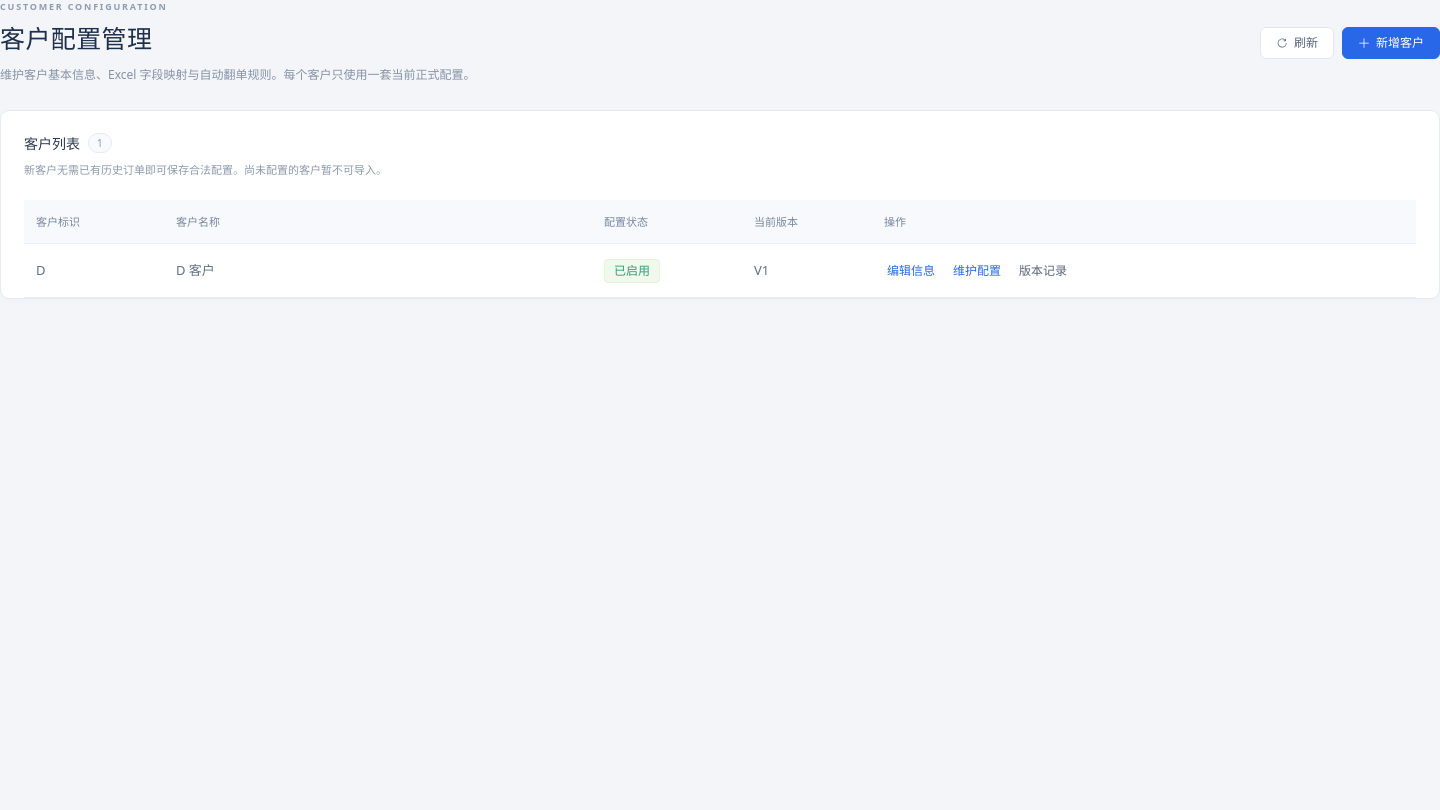
Test case: 上传样例复用已有映射，实际预览展示必填错误且不保存配置
What coordinates should you click on to do the following:
click the button "维护配置"
I would click on:
 (977, 271)
Its box is [950,262,1004,280].
(page scrolled)
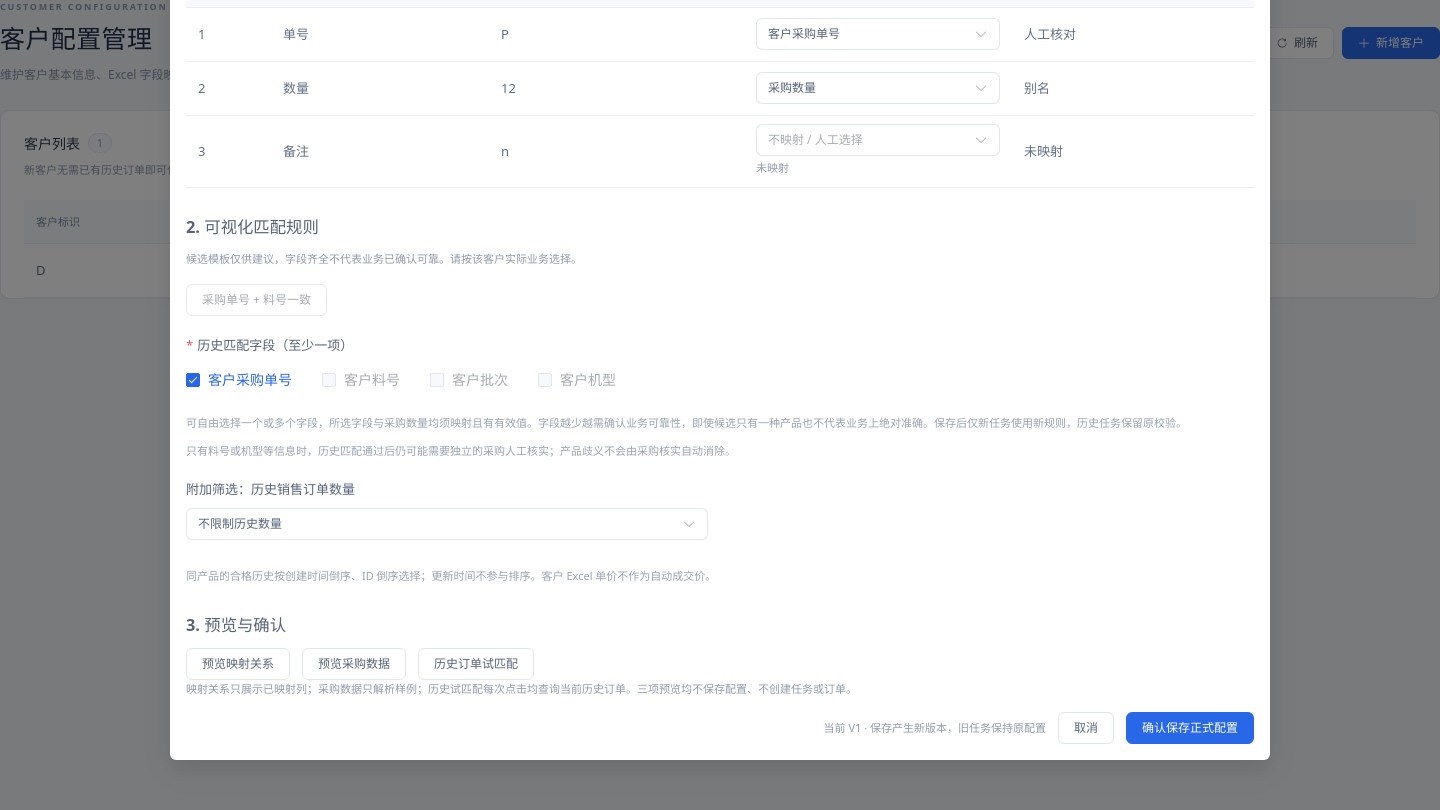
What coordinates should you click on to do the following:
click the button "预览采购数据"
I would click on:
 (354, 664)
Its box is [302,648,406,680].
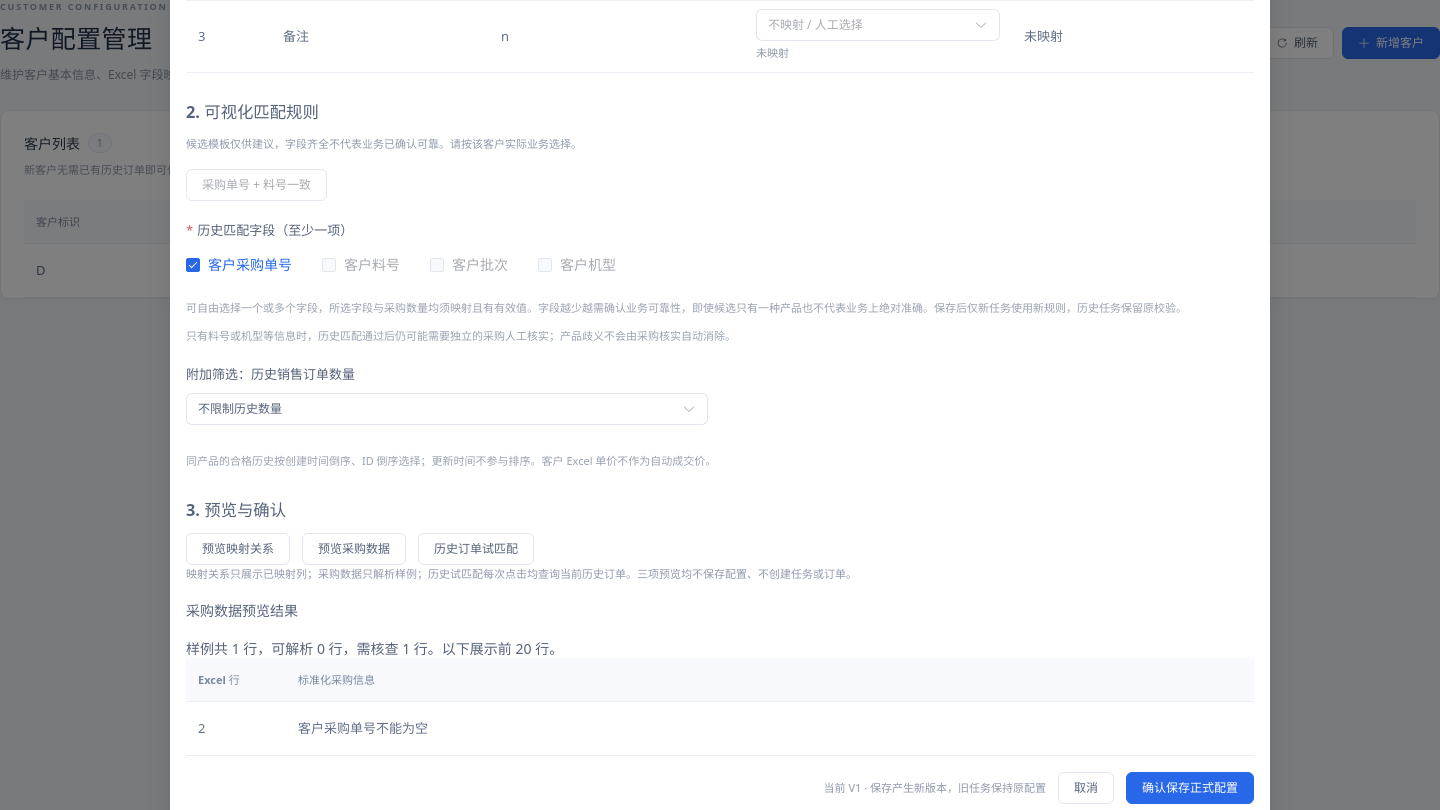
Now the text "客户采购单号不能为空" is shown, box [298,719,428,737]
